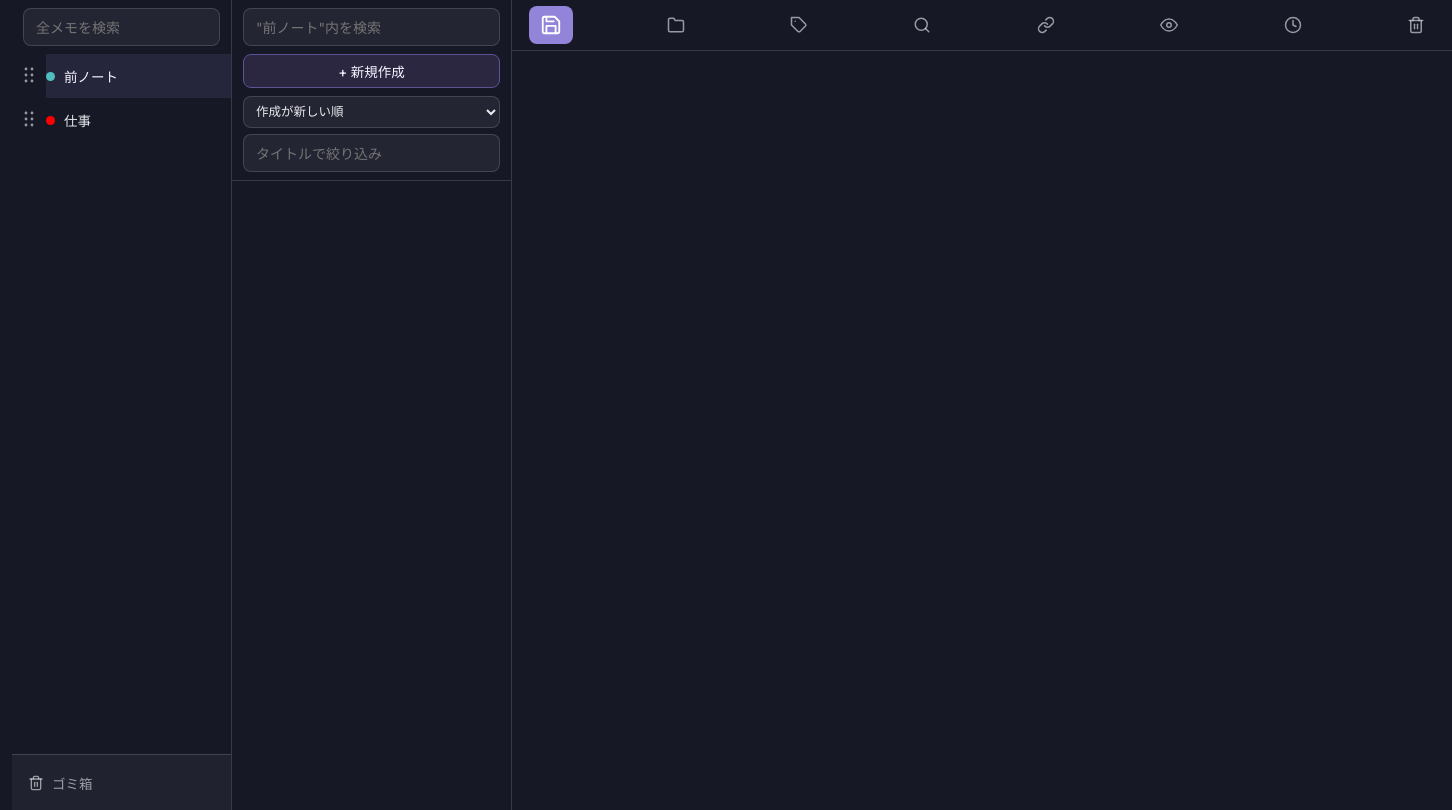
Test: folder deletion and moving notes to trash › moves notes in deleted folder to trash and shows them in trash view
Step 1. Press the mouse on the element with test id "swipe-container" → (732, 405), box [12, 0, 1451, 809]
Step 2. Press the mouse on the element with test id "swipe-container" → (732, 405), box [12, 0, 1451, 809]
(page scrolled)
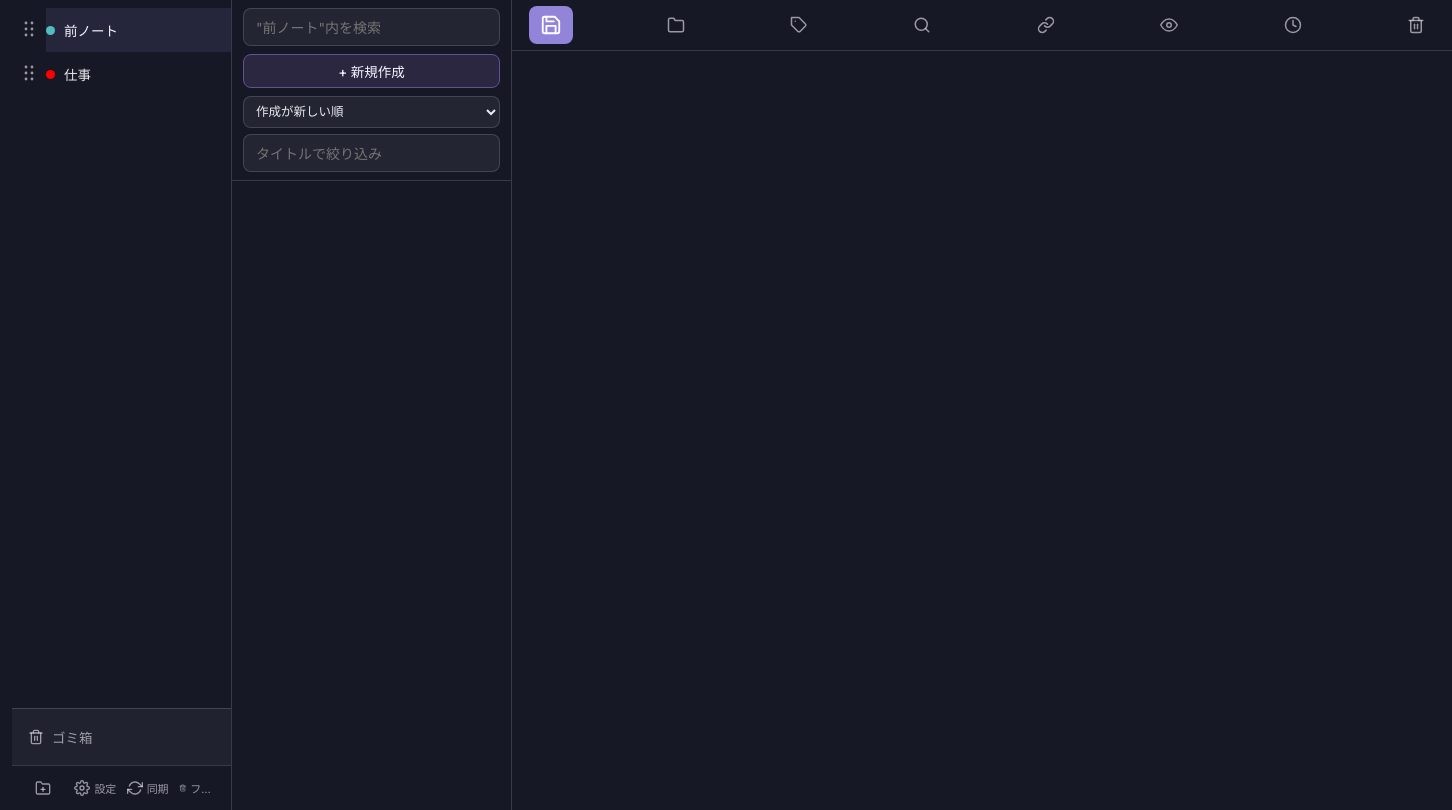
Now the element with test id "swipe-container" has class "mobile-folders"
Step 3. Click the button "フォルダ削除" → (200, 788), box [175, 772, 225, 804]
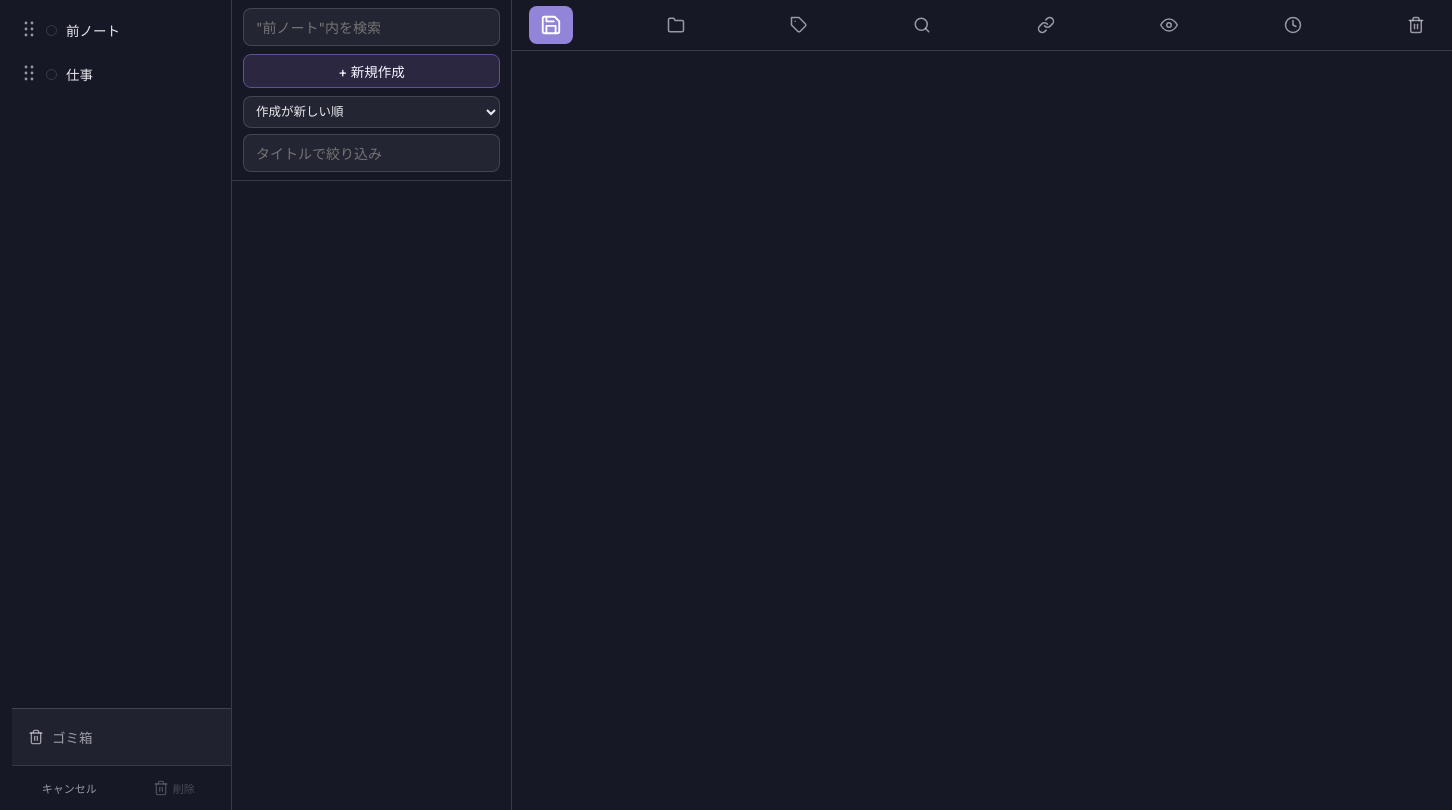
Step 4. Click the button "仕事" → (138, 74), box [46, 52, 231, 96]
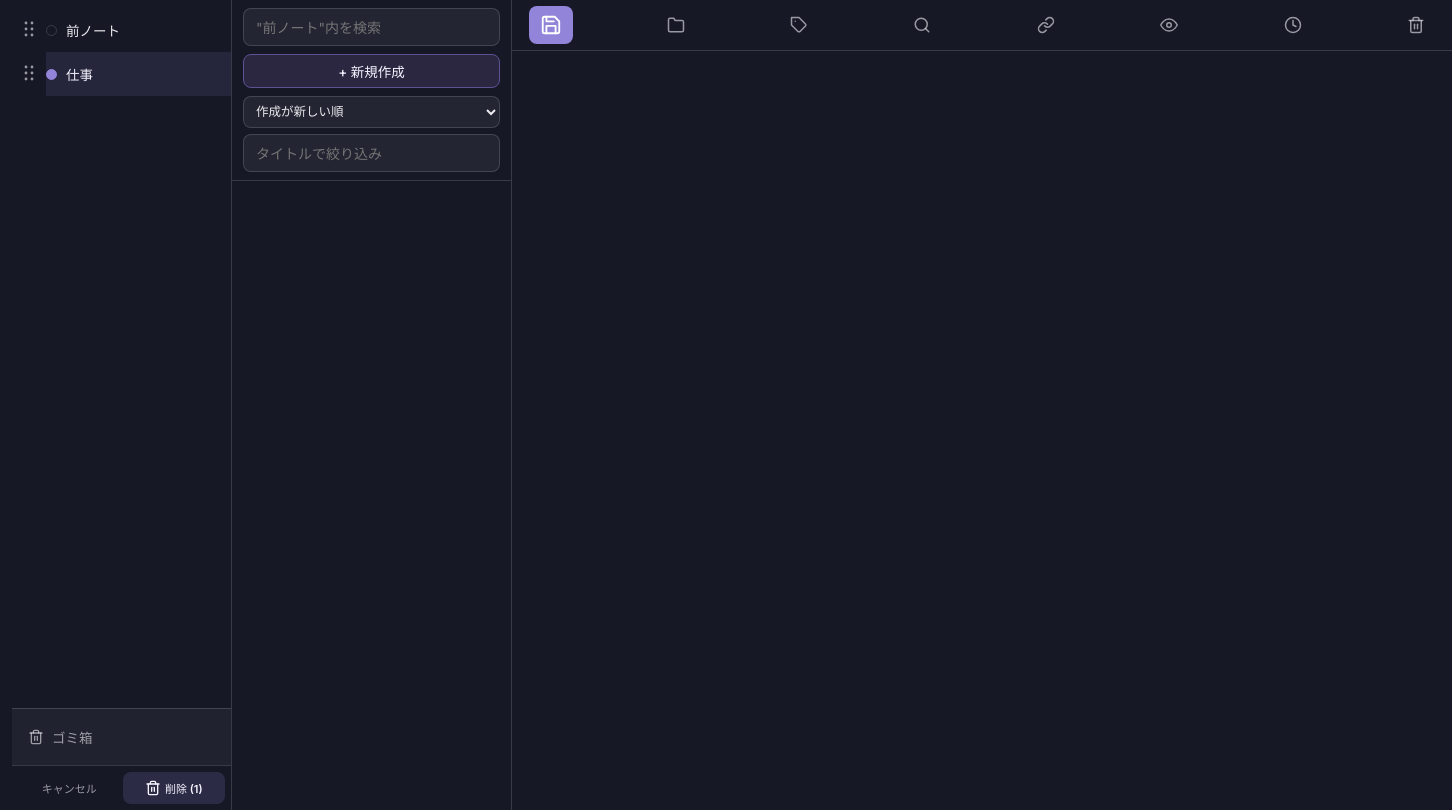
Now the element with test id "swipe-container" has class "mobile-folders"
Step 5. Click the button with aria-label "選択したフォルダを削除" → (174, 788), box [122, 772, 225, 804]
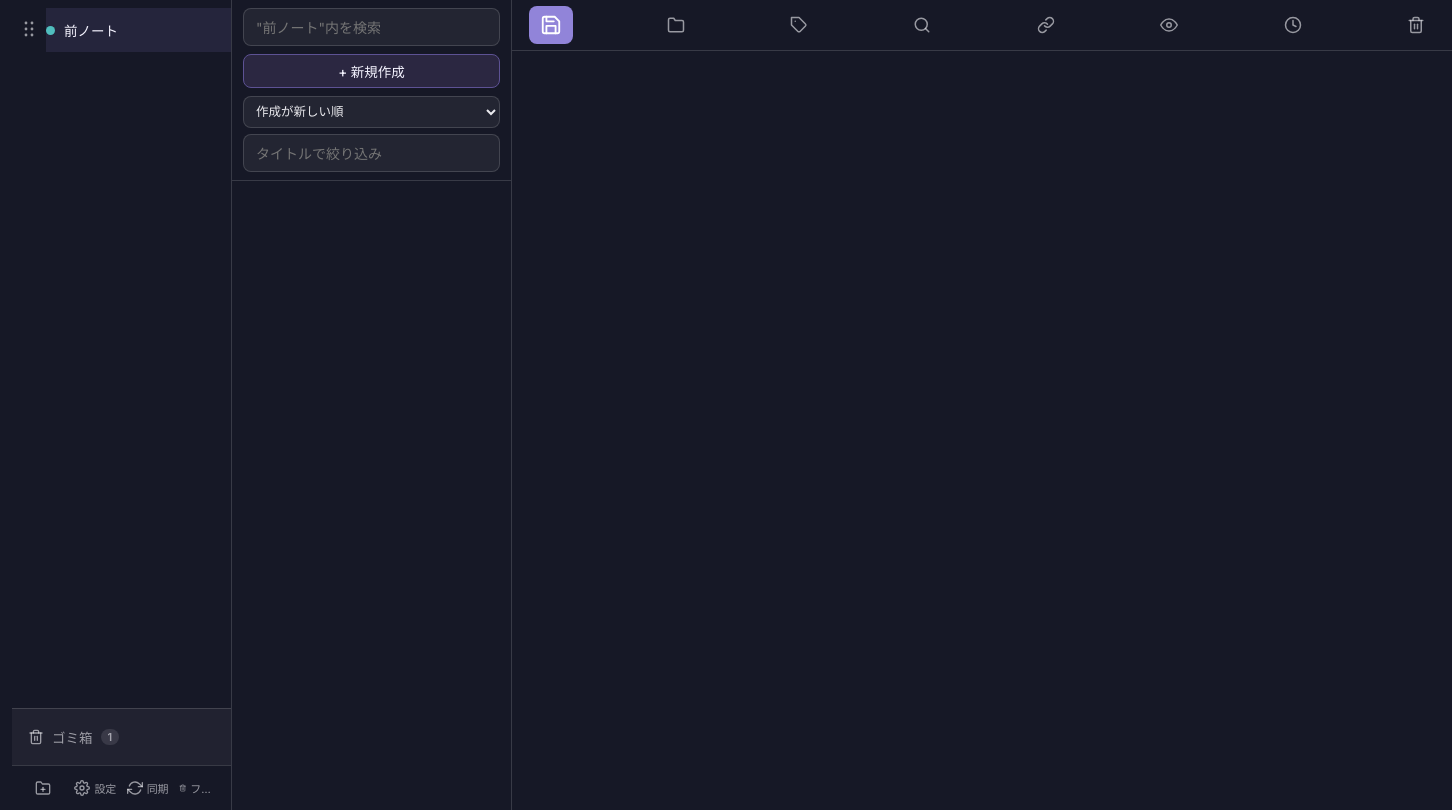
Now the button with aria-label "ゴミ箱 (1)" is shown
Step 6. Click the button with aria-label "ゴミ箱 (1)" → (122, 737), box [20, 715, 223, 759]
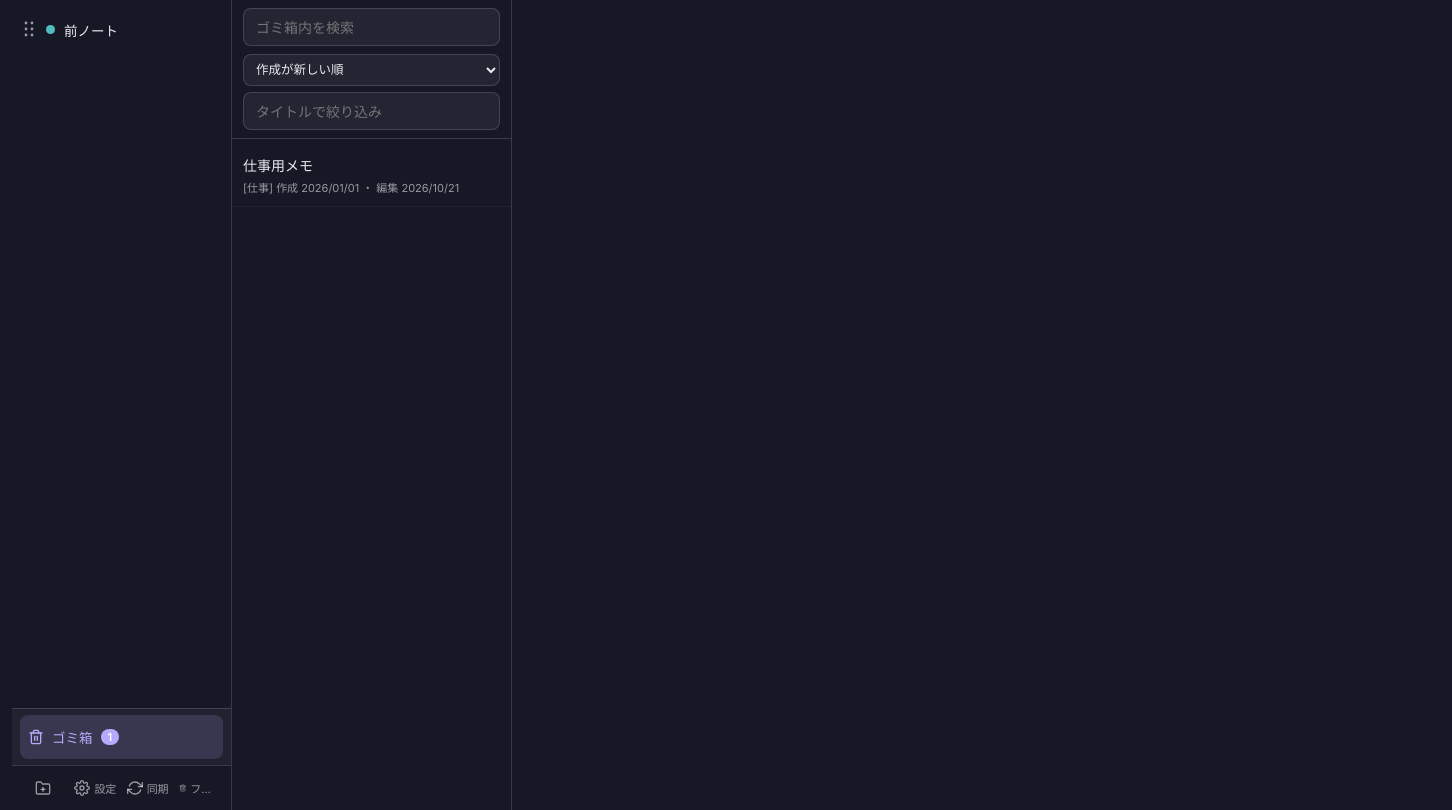
Now the text "仕事用メモ" is shown, box [243, 157, 313, 174]
Now the text "[仕事] 作成 2026/01/01 ・ 編集 2026/10/21" is shown, box [243, 181, 459, 195]
